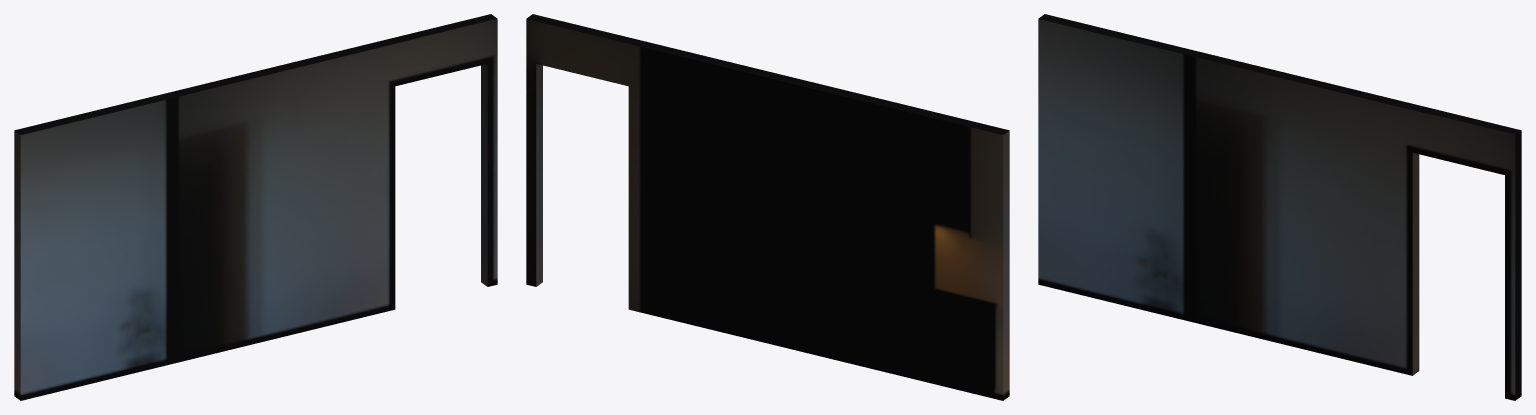
The picture shows the model from 3 angles, left to right: view 1: azimuth 30°, elevation 25°; view 2: azimuth 150°, elevation 25°; view 3: azimuth 330°, elevation 25°; orthographic projection.
Visible parts, largest first — view 1: Cube.002; view 2: Cube.002; view 3: Cube.002.
Boxes of the visible parts, <box> form: Cube.002: <box>14,14,497,400</box>; Cube.002: <box>526,14,1009,400</box>; Cube.002: <box>1038,14,1521,400</box>.
Bounding box in the file's own units: 4.7 × 2.5 × 0.113.
2 materials, 2 textured.
